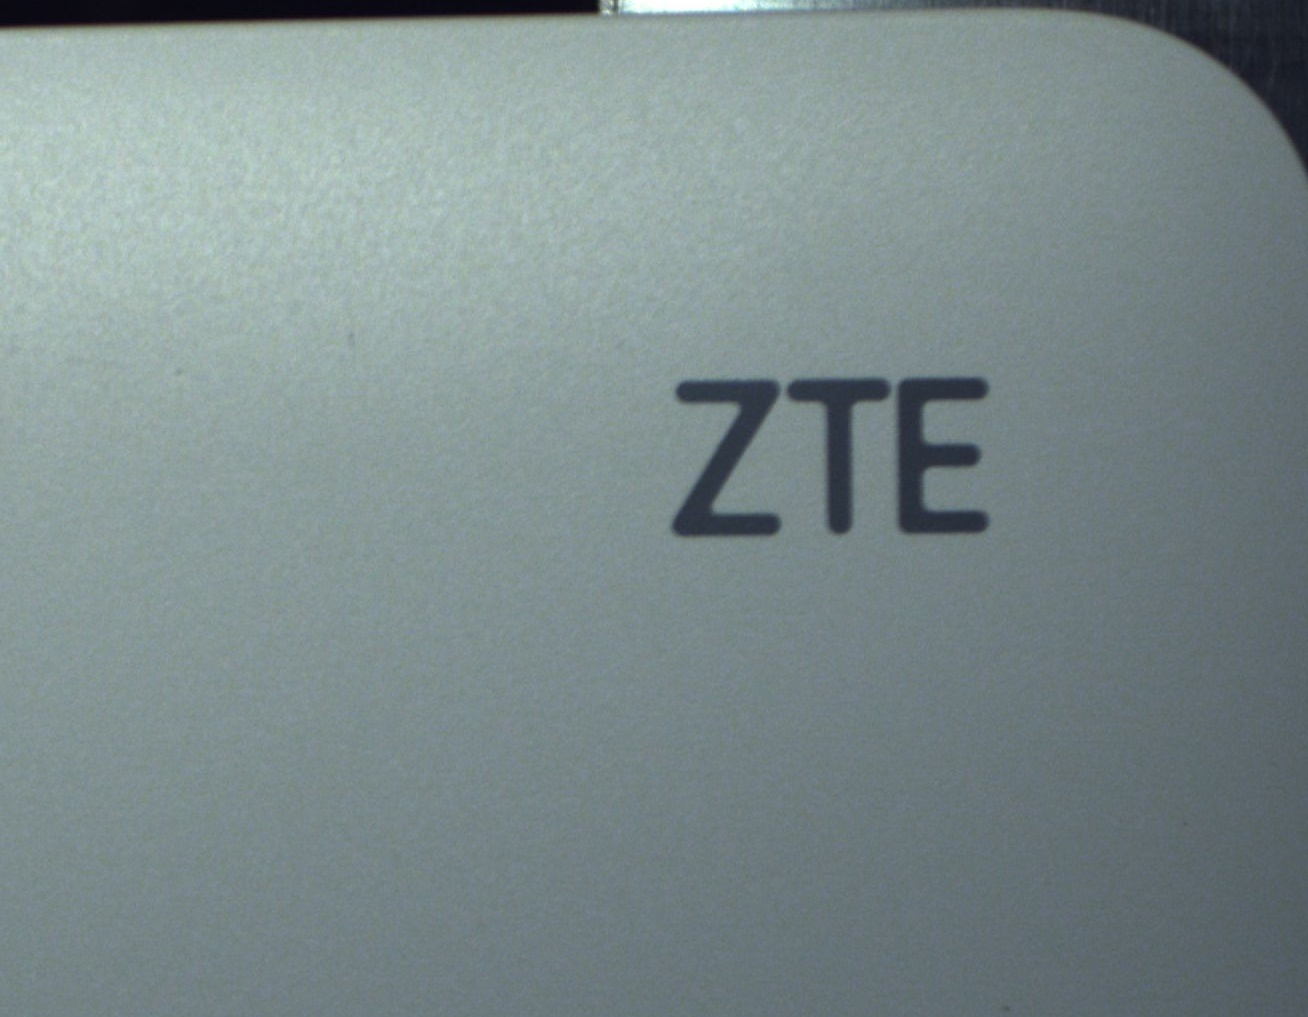AN_ZTE: (602, 352, 1042, 562)
